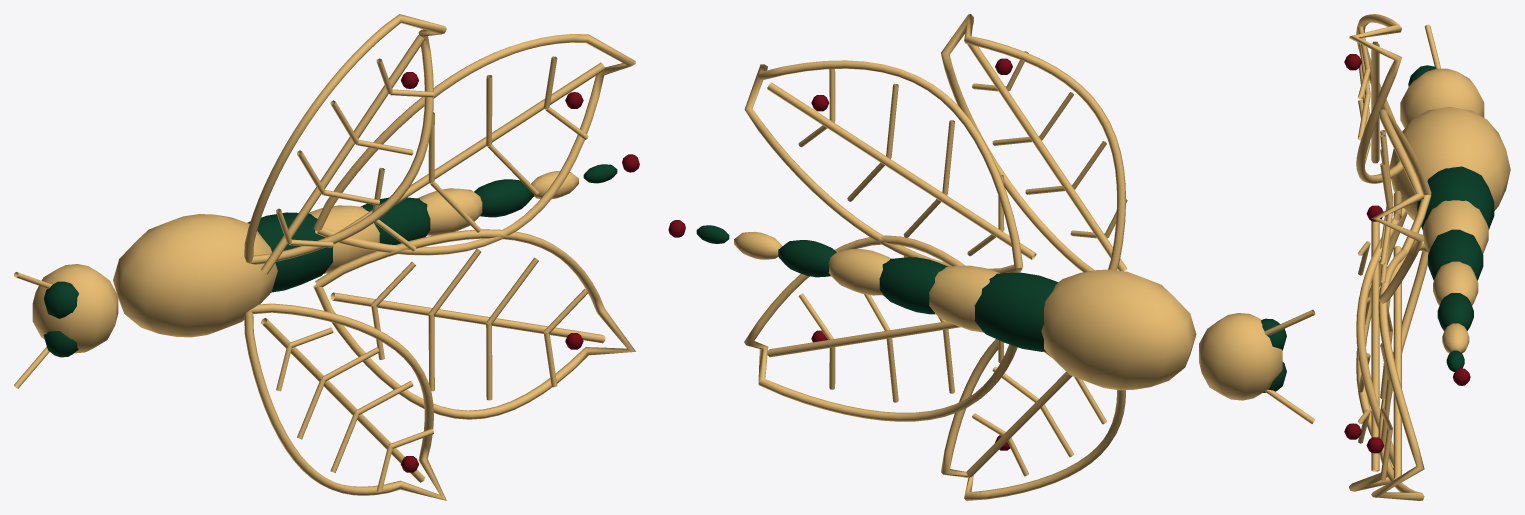
The model's file is dragonfly.glb.
3 views of the same model, side by side, from view 1: azimuth 30°, elevation 25°; view 2: azimuth 150°, elevation 25°; view 3: azimuth 270°, elevation 25° (orthographic). The views are drawn at different scales.
Parts seen in each view (by area): view 1: dragonfly; view 2: dragonfly; view 3: dragonfly.
Boxes of the visible parts, <box> form: dragonfly: <box>14,14,639,500</box>; dragonfly: <box>668,14,1315,500</box>; dragonfly: <box>1344,14,1510,500</box>.
Size of the model in its own units: 0.0959 by 0.0677 by 0.0224.
